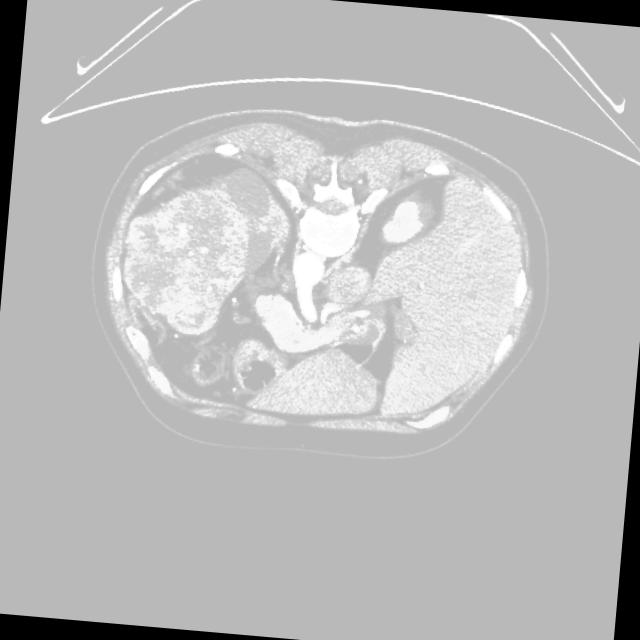TUMOR: (107, 118, 326, 364)
